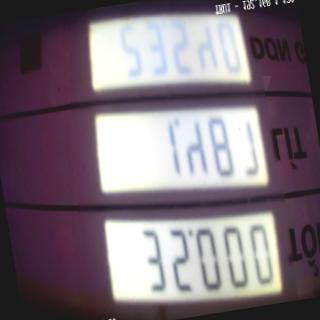screen: (61, 0, 296, 320)
